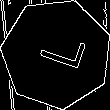L_W: (27, 31, 86, 77)
